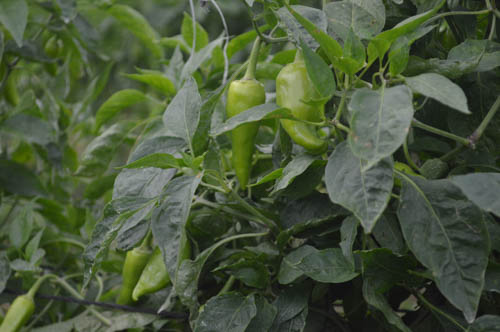ChiliPepper: (277, 62, 325, 150), (225, 83, 263, 187), (136, 243, 194, 307), (123, 249, 149, 304), (4, 299, 36, 332)
